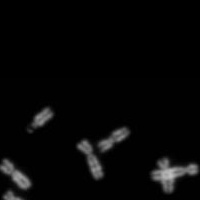chromosome: (76, 139, 103, 180), (0, 159, 31, 190), (98, 126, 130, 153), (151, 163, 199, 181), (26, 108, 53, 133), (3, 190, 61, 200), (157, 158, 172, 191)
